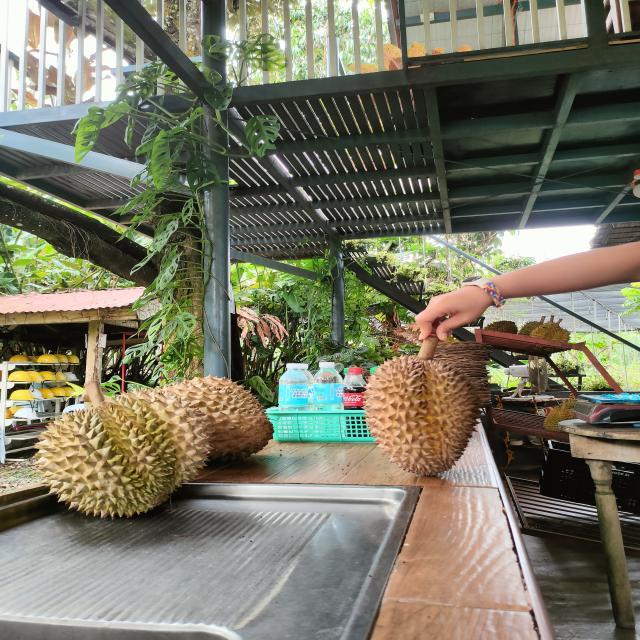mature: (365, 356, 480, 475), (162, 376, 273, 459)
